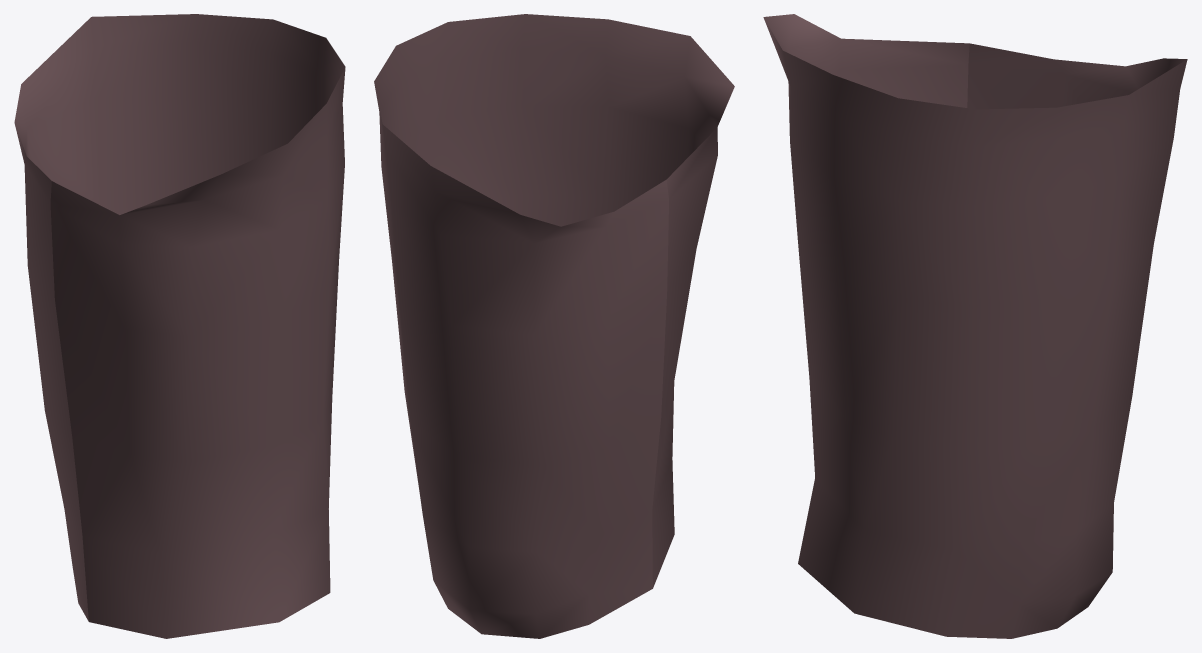
Rendered from pDerOak.obj.
3 renders of one model, left to right at view 1: azimuth 30°, elevation 25°; view 2: azimuth 150°, elevation 25°; view 3: azimuth 270°, elevation 25°, orthographic. The views are drawn at different scales.
Parts seen in each view (by area): view 1: RThigh, RLeg, PiernaDer_body.001, Hips; view 2: RThigh, Hips, PiernaDer_body.001, RLeg; view 3: RThigh, RLeg, PiernaDer_body.001, Hips.
Boxes of the visible parts, <box> form: RThigh: <box>14,14,345,638</box>; RLeg: <box>73,509,330,638</box>; PiernaDer_body.001: <box>91,14,345,174</box>; Hips: <box>15,104,325,214</box>; RThigh: <box>374,14,717,638</box>; Hips: <box>526,14,734,226</box>; PiernaDer_body.001: <box>374,14,604,190</box>; RLeg: <box>434,511,674,638</box>; RThigh: <box>787,38,1187,628</box>; RLeg: <box>798,530,1087,638</box>; PiernaDer_body.001: <box>791,59,1187,146</box>; Hips: <box>763,14,1124,86</box>.
Bounding box in the file's own units: 16.43 × 30.29 × 20.32.
